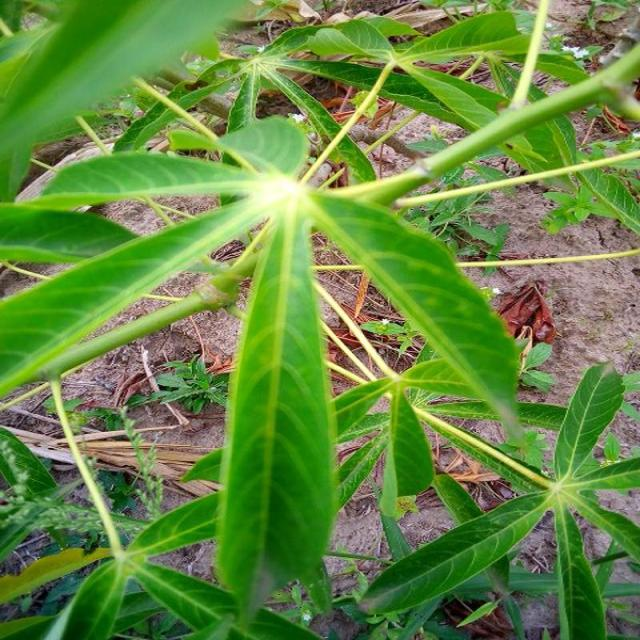cassava leaf: (214, 204, 338, 625)
